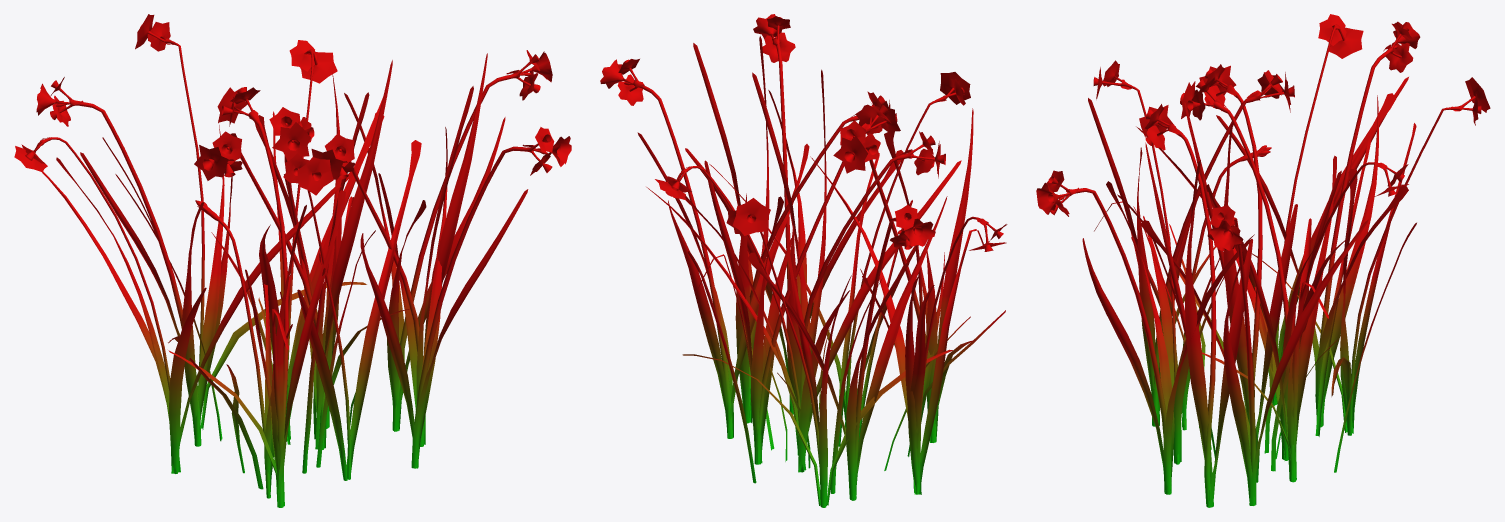
The model's file is Rush Daffodil_LOD1_Var1_wftgfjaia.fbx.
3 views of the same model, side by side, from view 1: azimuth 30°, elevation 25°; view 2: azimuth 150°, elevation 25°; view 3: azimuth 270°, elevation 25° (orthographic). The views are drawn at different scales.
Visible parts, largest first — view 1: _44hc_var1_LOD1; view 2: _44hc_var1_LOD1; view 3: _44hc_var1_LOD1.
Part boxes in pixels (<box>): _44hc_var1_LOD1: <box>14,14,571,507</box>; _44hc_var1_LOD1: <box>600,14,1007,507</box>; _44hc_var1_LOD1: <box>1036,14,1490,507</box>.
Bounding box in the file's own units: 46.16 × 35.52 × 38.63.
